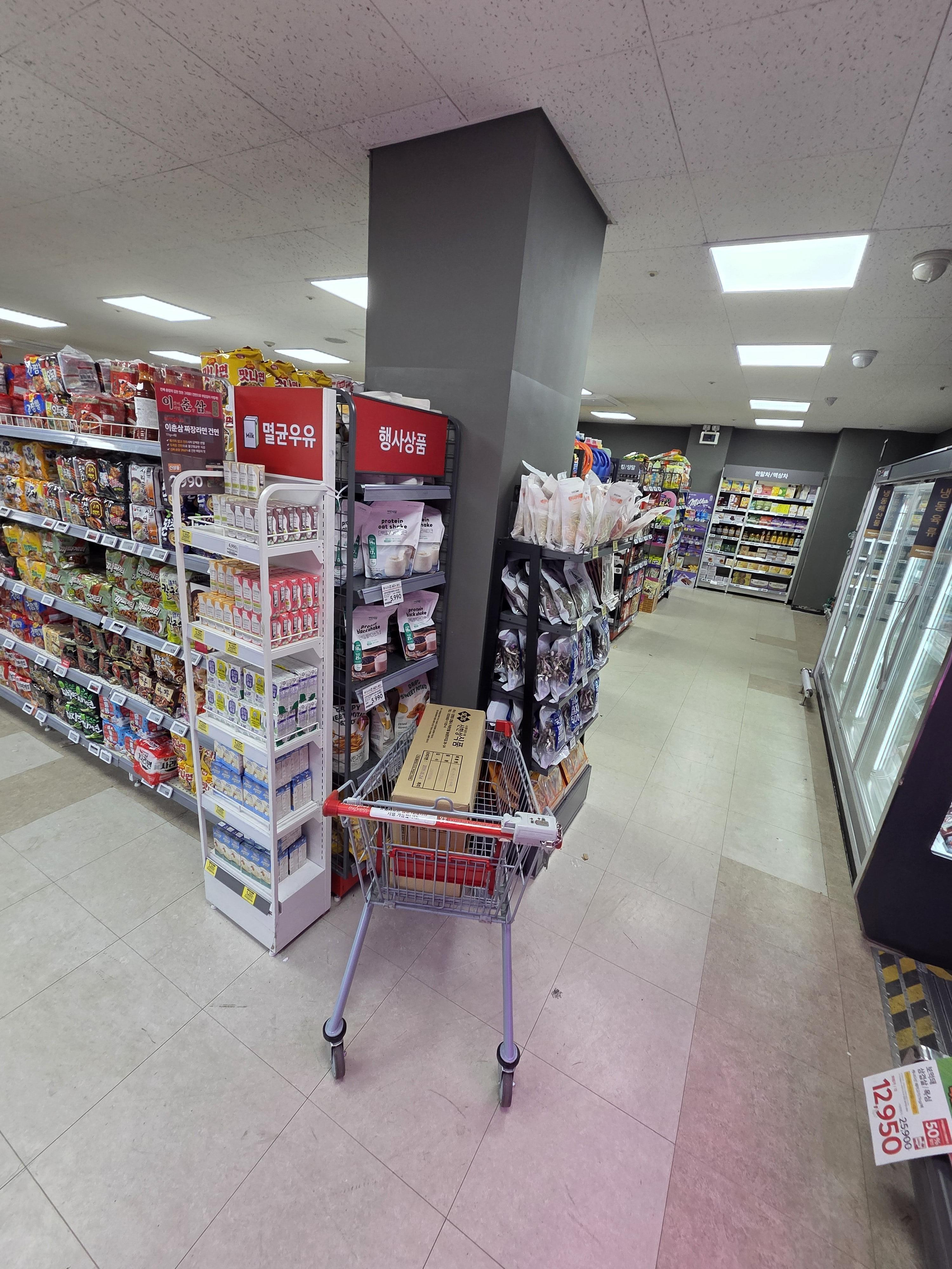fully_cart: (291, 680, 572, 1132)
